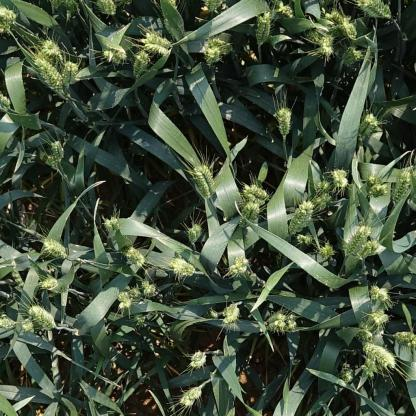whd: (34, 58, 62, 90), (343, 226, 370, 258), (289, 201, 313, 236), (361, 342, 395, 366), (391, 171, 411, 207), (141, 33, 173, 55), (28, 305, 55, 330), (194, 166, 215, 198), (356, 0, 391, 19), (239, 202, 260, 228), (242, 184, 269, 204), (41, 275, 68, 294), (41, 239, 66, 259), (256, 11, 270, 45), (358, 113, 378, 136), (276, 108, 292, 135), (202, 39, 220, 63), (358, 240, 379, 260), (180, 387, 201, 407), (133, 51, 148, 78), (209, 39, 233, 55), (40, 40, 61, 58), (368, 308, 389, 326), (340, 17, 357, 39), (227, 257, 249, 274), (62, 61, 78, 84), (340, 47, 360, 65), (121, 247, 142, 264), (393, 331, 415, 347), (222, 304, 239, 324), (102, 49, 126, 63), (170, 261, 194, 275), (370, 284, 388, 302), (0, 5, 17, 24), (330, 170, 348, 187), (96, 0, 116, 15), (268, 313, 285, 330), (360, 360, 378, 376), (320, 36, 334, 56), (190, 351, 206, 368), (101, 218, 120, 232), (142, 280, 158, 296), (117, 292, 133, 308), (200, 0, 223, 11), (0, 90, 11, 113), (370, 184, 388, 198), (278, 2, 294, 17), (11, 269, 23, 288), (318, 243, 333, 258), (188, 226, 202, 242), (0, 314, 14, 330), (341, 362, 352, 382), (50, 140, 62, 158), (317, 194, 331, 209), (18, 319, 34, 332), (304, 29, 320, 42), (365, 175, 376, 193), (213, 32, 231, 43), (330, 9, 343, 24), (285, 314, 297, 330), (295, 234, 312, 244), (129, 285, 141, 298), (49, 156, 59, 171), (359, 321, 375, 330), (64, 0, 78, 10), (204, 309, 218, 319), (356, 330, 372, 338), (54, 53, 64, 65), (48, 0, 62, 8), (317, 180, 328, 190), (132, 314, 144, 323), (169, 0, 179, 10), (0, 24, 6, 35), (324, 13, 334, 19), (119, 0, 128, 3)
